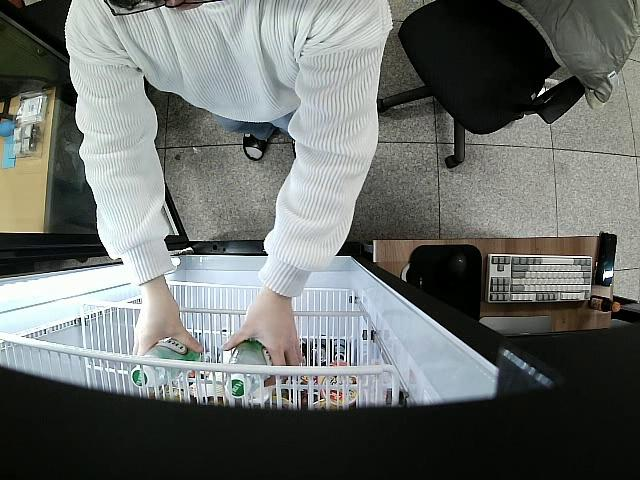00_hand: (222, 311, 302, 381), (133, 308, 204, 368)
18_trevi: (131, 339, 201, 387), (223, 342, 272, 396)
